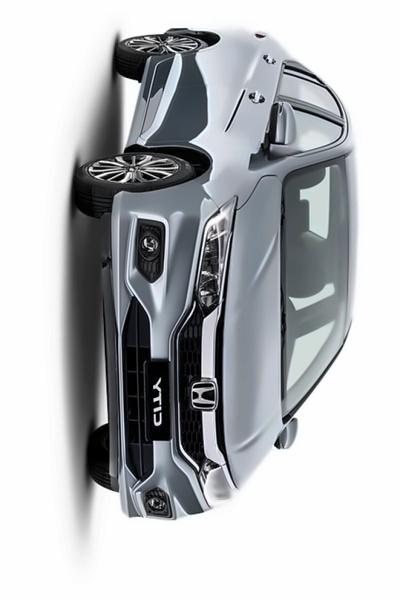Car hood: (221, 172, 286, 492)
Driver-s door - -F-R-: (139, 89, 354, 143)
Fender - -F-R-: (126, 140, 290, 212)
Fender - -R-R-: (157, 35, 266, 57)
Front bumper: (96, 187, 210, 528)
Headlight - -L-: (192, 453, 241, 517)
Headlight - -R-: (191, 191, 243, 318)
Passenger-s door - -R-R-: (148, 55, 350, 114)
Rear light - -R-: (241, 22, 272, 43)
Side bumper - -R-: (120, 48, 160, 159)
Side mirror - -L-: (269, 412, 303, 456)
Side mirror - -R-: (259, 93, 297, 153)
